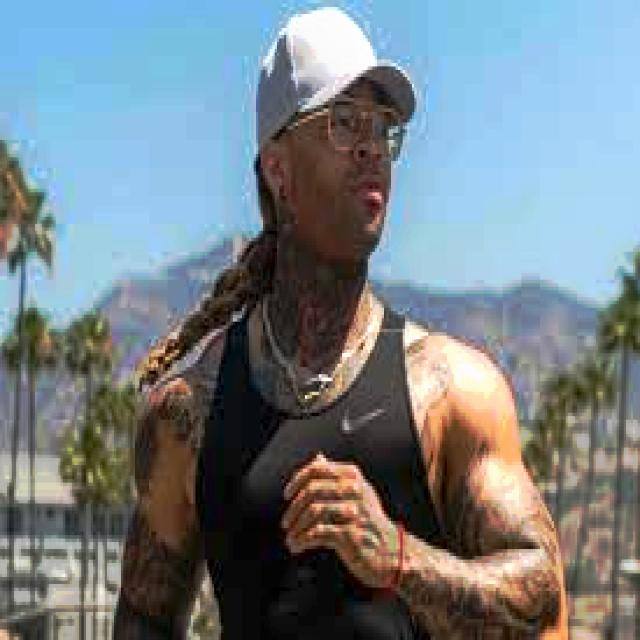TOPI: (249, 3, 419, 161)
